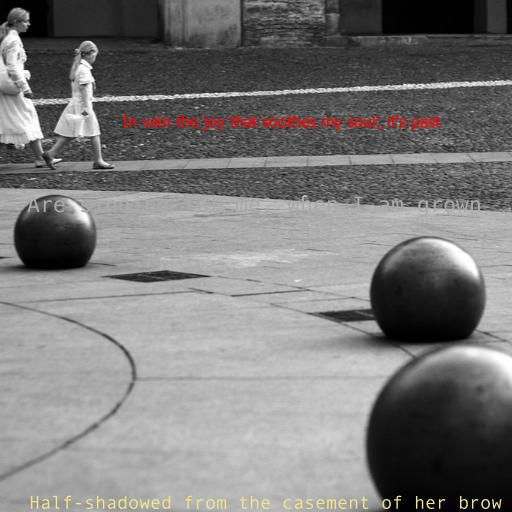Andale Mono: (28, 495, 502, 510)
Menlo: (26, 195, 482, 217)
Tahoma: (122, 115, 440, 131)
